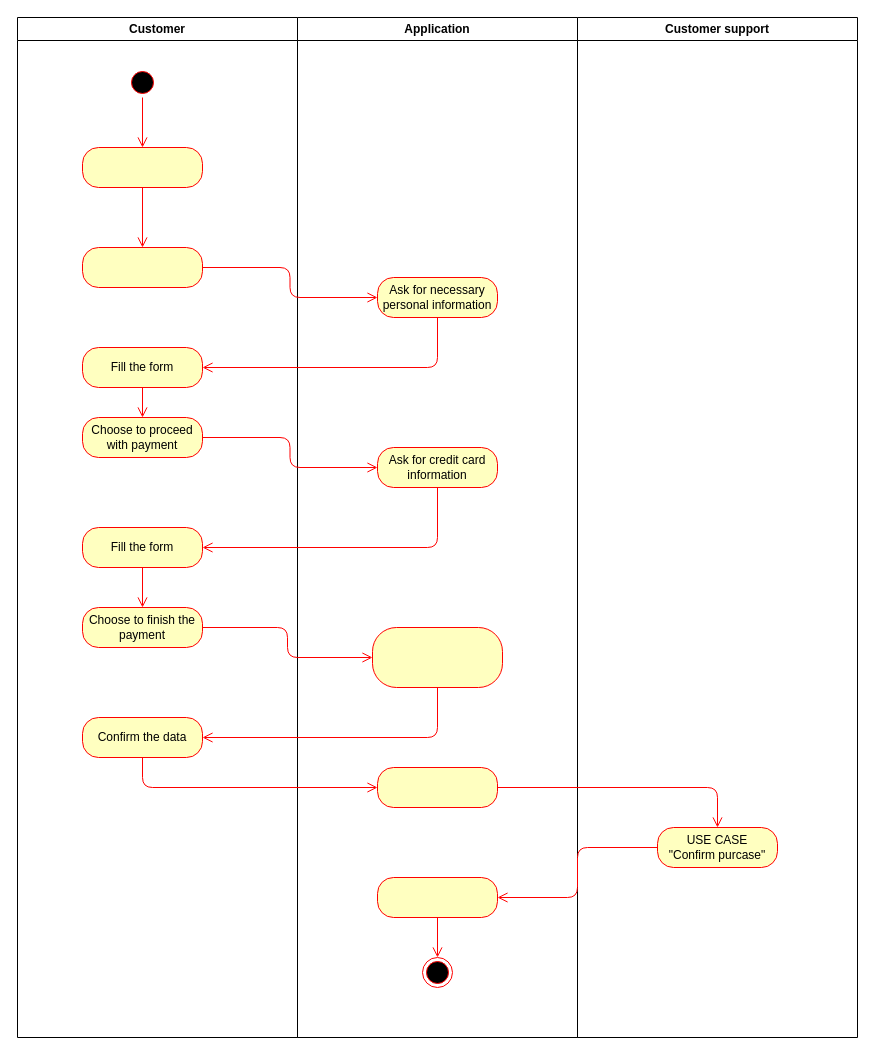
Some shapes in this 875 by 1055 pixel diagram are drawn without their labels. The centre of each missing label's shape, as x and y in pixels:
"Add game to the cart" belongs at point 142,167.
"Choose to pay for the cart" belongs at point 142,267.
"Send purchase order" belongs at point 437,787.
"Show order status" belongs at point 437,897.
"Show the dialog that shows customer information for confirmation" belongs at point 437,657.
